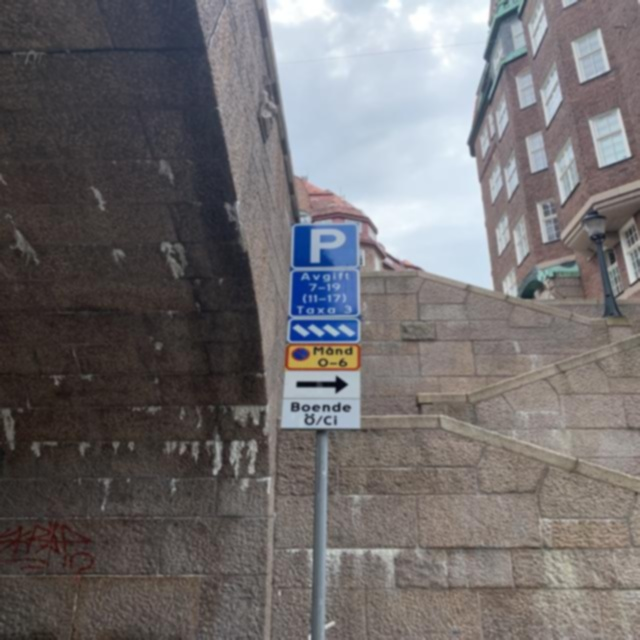P-skylt: (288, 221, 362, 271)
